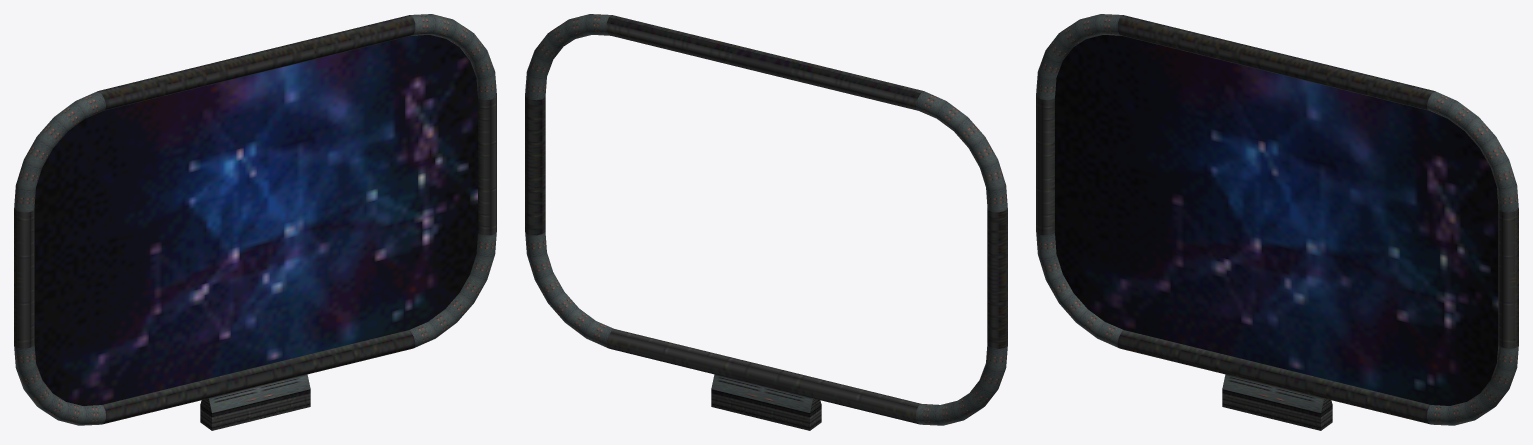
The model's file is paineltransparente9.fbx.
3 views of the same model, side by side, from view 1: azimuth 30°, elevation 25°; view 2: azimuth 150°, elevation 25°; view 3: azimuth 330°, elevation 25° (orthographic).
Parts seen in each view (by area): view 1: Cube.001, Cube; view 2: Cube; view 3: Cube.001, Cube.
Part boxes in pixels (x1,y1,x2,y2): Cube.001: [34, 35, 477, 405]; Cube: [14, 14, 496, 430]; Cube: [525, 14, 1007, 430]; Cube.001: [1055, 35, 1498, 405]; Cube: [1036, 14, 1518, 430].
Bounding box in the file's own units: 2.63 × 1.89 × 0.1115.
